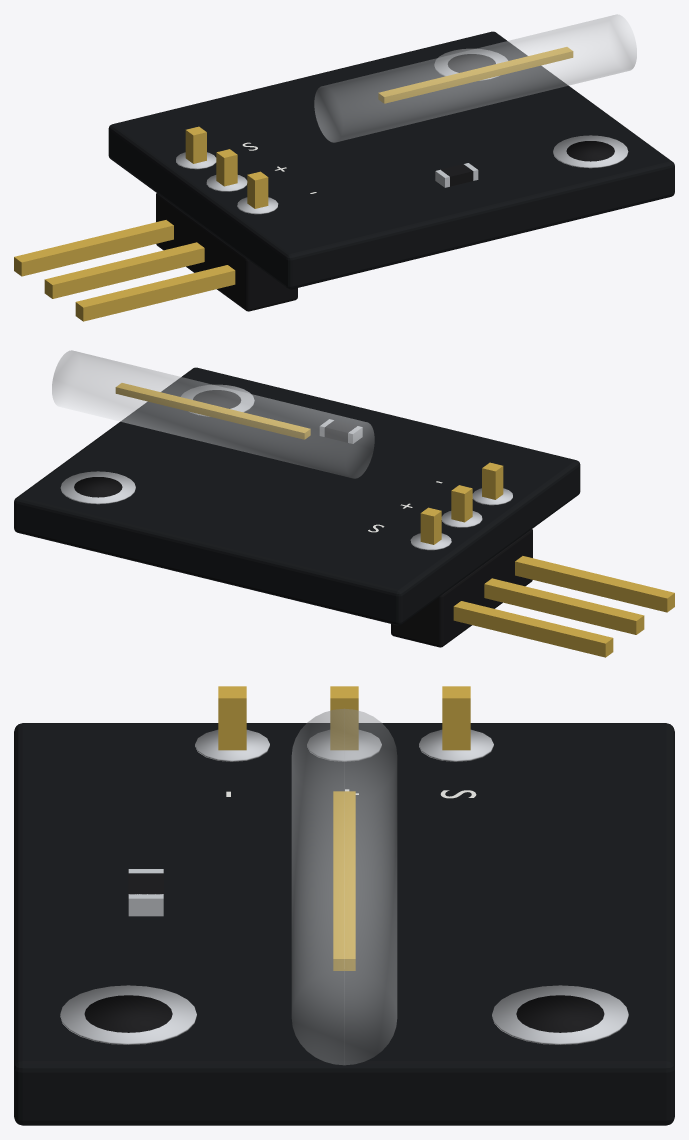
File: magnetic-spring-sensor.glb
3 renders of one model, top to bottom at view 1: azimuth 30°, elevation 25°; view 2: azimuth 150°, elevation 25°; view 3: azimuth 270°, elevation 25°, orthographic. The views are drawn at different scales.
Visible parts, largest first — view 1: pcb.009, part.042, header.009, pin_h.029, pin_h.028, pin_h.027, part.043, hole_ring.019, hole.019, hole_ring.018, pin_v.028, pin_v.029 (+3 smaller); view 2: pcb.009, part.042, header.009, pin_h.027, pin_h.028, pin_h.029, part.043, hole_ring.018, hole.018, hole_ring.019, pin_v.027, pin_v.028 (+3 smaller); view 3: pcb.009, part.042, part.043, hole_ring.018, hole_ring.019, hole.018, hole.019, pin_v.027, pin_v.029, pin_v.028, pad.027, pad.029 (+3 smaller).
Boxes of the visible parts, bbox=[...] form: pcb.009: bbox=[108, 31, 674, 289]; part.042: bbox=[314, 14, 636, 142]; header.009: bbox=[156, 193, 297, 311]; pin_h.029: bbox=[75, 265, 235, 321]; pin_h.028: bbox=[44, 242, 204, 298]; pin_h.027: bbox=[14, 220, 173, 276]; part.043: bbox=[378, 47, 573, 103]; hole_ring.019: bbox=[553, 135, 628, 168]; hole.019: bbox=[566, 141, 614, 161]; hole_ring.018: bbox=[434, 48, 507, 80]; pin_v.028: bbox=[216, 149, 237, 186]; pin_v.029: bbox=[247, 171, 268, 208]; pcb.009: bbox=[14, 367, 580, 625]; part.042: bbox=[52, 350, 374, 478]; header.009: bbox=[391, 529, 532, 647]; pin_h.027: bbox=[453, 601, 613, 657]; pin_h.028: bbox=[484, 578, 644, 634]; pin_h.029: bbox=[515, 556, 674, 612]; part.043: bbox=[115, 383, 310, 439]; hole_ring.018: bbox=[60, 471, 135, 504]; hole.018: bbox=[74, 477, 122, 497]; hole_ring.019: bbox=[181, 384, 254, 416]; pin_v.027: bbox=[420, 507, 441, 544]; pin_v.028: bbox=[451, 485, 472, 522]; pcb.009: bbox=[14, 723, 674, 1125]; part.042: bbox=[292, 708, 396, 1065]; part.043: bbox=[333, 791, 355, 970]; hole_ring.018: bbox=[492, 985, 628, 1044]; hole_ring.019: bbox=[60, 985, 196, 1044]; hole.018: bbox=[516, 995, 604, 1032]; hole.019: bbox=[84, 995, 172, 1032]; pin_v.027: bbox=[442, 686, 470, 750]; pin_v.029: bbox=[218, 686, 246, 750]; pin_v.028: bbox=[330, 686, 358, 750]; pad.027: bbox=[419, 729, 493, 761]; pad.029: bbox=[195, 729, 269, 761].
Size of the model in its own units: 0.0274 by 0.0073 by 0.015.
